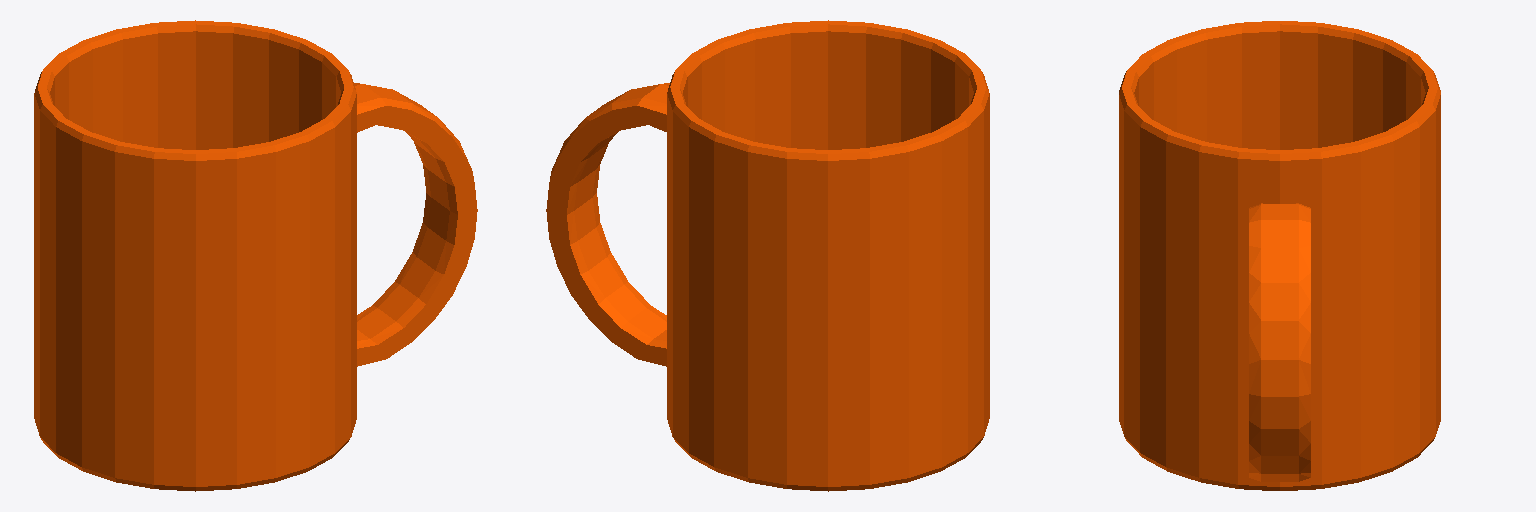
robot.urdf — Mug_336122c3105440d193e42e2720468bf0_handle:
<?xml version="1.0" ?>
<robot name="Mug_336122c3105440d193e42e2720468bf0_handle">
   <material name="obj_color">
      <color rgba="1.0 0.423529411765 0.0392156862745 1.0"/>
   </material>
   <link name="top">
      <inertial>
         <origin rpy="5.198673904495264e-06 1.499146217532862e-05 1.853336243997845e-05" xyz="0.04962525863866576 0.000259515752176593 0.001853203192453313"/>
         <mass value="0.03866310889696004"/>
         <inertia ixx="1.499145740993046e-05" ixy="1.780379387289955e-11" ixz="-6.831353564073141e-09" iyy="1.853336243977893e-05" iyz="-3.826810534535894e-11" izz="5.198678670092937e-06"/>
      </inertial>
      <visual>
         <origin rpy="0 0 0" xyz="0 0 0"/>
         <geometry>
            <mesh filename="top_watertight_tiny.stl" scale="1 1 1"/>
         </geometry>
         <material name="obj_color"/>
      </visual>
      <collision>
         <origin rpy="0 0 0" xyz="0 0 0"/>
         <geometry>
            <mesh filename="top_watertight_tiny.obj" scale="1 1 1"/>
         </geometry>
      </collision>
   </link>
   <link name="bottom">
      <inertial>
         <origin rpy="0.0004558849527366192 0.0006355396443636844 0.0006368460039659747" xyz="-0.008588475580026312 0.0002551543399780467 0.004164222140550559"/>
         <mass value="0.5217409381112234"/>
         <inertia ixx="0.0006355419663369005" ixy="5.502919683446763e-08" ixz="6.167045094674113e-09" iyy="0.0006368436817763051" iyz="9.299246560357594e-10" izz="0.0004558849529530733"/>
      </inertial>
      <visual>
         <origin rpy="0 0 0" xyz="0 0 0"/>
         <geometry>
            <mesh filename="bottom_watertight_tiny.stl" scale="1 1 1"/>
         </geometry>
         <material name="obj_color"/>
      </visual>
      <collision>
         <origin rpy="0 0 0" xyz="0 0 0"/>
         <geometry>
            <mesh filename="bottom_watertight_tiny.obj" scale="1 1 1"/>
         </geometry>
      </collision>
   </link>
   <link name="world"/>
   <joint name="world_to_base" type="fixed">
      <origin xyz="0 0 0"/>
      <axis xyz="0 0 0"/>
      <parent link="world"/>
      <child link="bottom"/>
   </joint>
   <joint name="rotation" type="revolute">
      <origin xyz="0 0 0"/>
      <axis xyz="0 0 -1"/>
      <parent link="bottom"/>
      <child link="top"/>
      <dynamics damping="1.0" friction="1.0"/>
      <limit effort="0.1" velocity="0.1" lower="0" upper="0.001"/>
   </joint>
</robot>

--- Facts derived from the render (not from the file) ---
The picture shows the robot from 3 angles, left to right: view 1: azimuth 30°, elevation 25°; view 2: azimuth 150°, elevation 25°; view 3: azimuth 270°, elevation 25°; orthographic projection.
Model Mug_336122c3105440d193e42e2720468bf0_handle with 3 links and 2 joints (1 revolute, 1 fixed), rooted at world, posed all joints at 0.
Visible links, largest first — view 1: bottom, top; view 2: bottom, top; view 3: bottom, top.
Link boxes in pixels (x1,y1,x2,y2): bottom: [34, 20, 356, 491]; top: [354, 83, 477, 366]; bottom: [667, 20, 989, 491]; top: [546, 83, 669, 366]; bottom: [1119, 21, 1440, 490]; top: [1249, 203, 1310, 481].
Bounding box of the posed robot: 0.1238 × 0.084 × 0.097 m (x, y, z).
2 mesh visuals loaded from 2 distinct referenced files (2 binary STL).